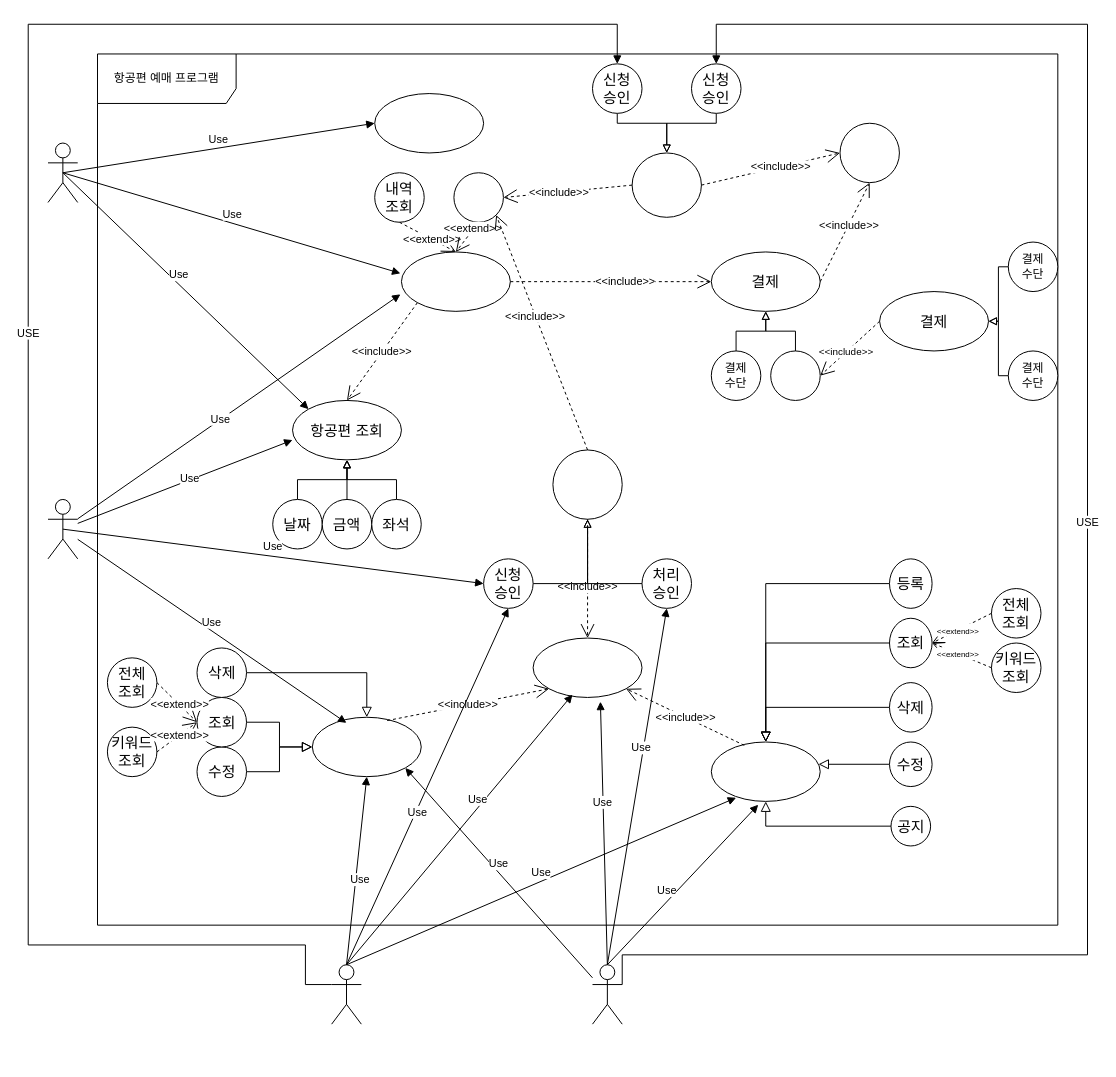
Some shapes in this 1116 by 1077 pixel diagram are drawn without their labels. Here are the shapes that lost their labels. From the top down, the box of each, then its label:
(374, 93, 484, 153): 회원 가입
(47, 142, 78, 202): 비회원 고객
(839, 122, 899, 183): 비회원 결제정보
(453, 172, 503, 222): 예매 취소
(631, 152, 701, 217): 비회원 환불
(400, 251, 510, 311): 예매
(770, 350, 820, 400): 결제 내역
(552, 449, 622, 519): 회원 환불
(47, 498, 78, 559): 회원 고객
(532, 637, 642, 697): 로그인
(311, 716, 421, 777): 회원 정보 관리
(710, 741, 820, 801): 항공편 관리
(331, 964, 361, 1024): 항공사 직원
(592, 964, 622, 1024): 예메 시스템 관리자
